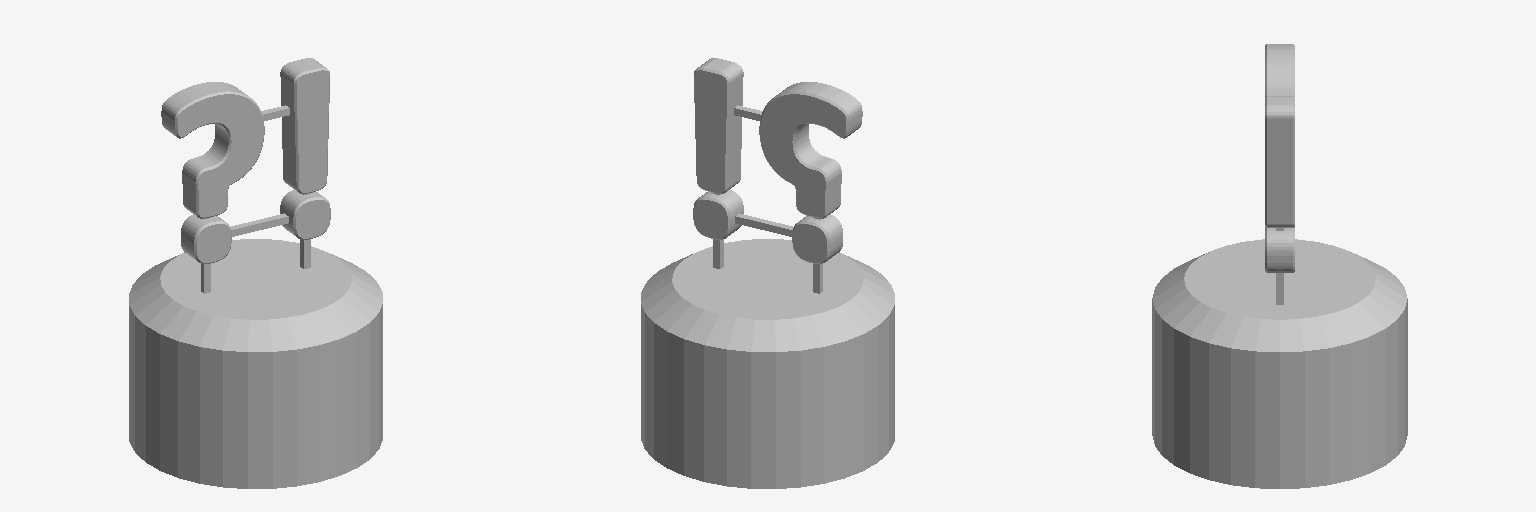
The model's file is PLACEHO1.obj.
3 views of the same model, side by side, from view 1: azimuth 30°, elevation 25°; view 2: azimuth 150°, elevation 25°; view 3: azimuth 270°, elevation 25° (orthographic).
Parts seen in each view (by area): view 1: Placeholder_Statue; view 2: Placeholder_Statue; view 3: Placeholder_Statue.
Part boxes in pixels (bbox=[...]): Placeholder_Statue: bbox=[129, 58, 382, 488]; Placeholder_Statue: bbox=[641, 58, 894, 488]; Placeholder_Statue: bbox=[1152, 44, 1407, 488].
Bounding box in the file's own units: 0.327 × 0.5078 × 0.327.